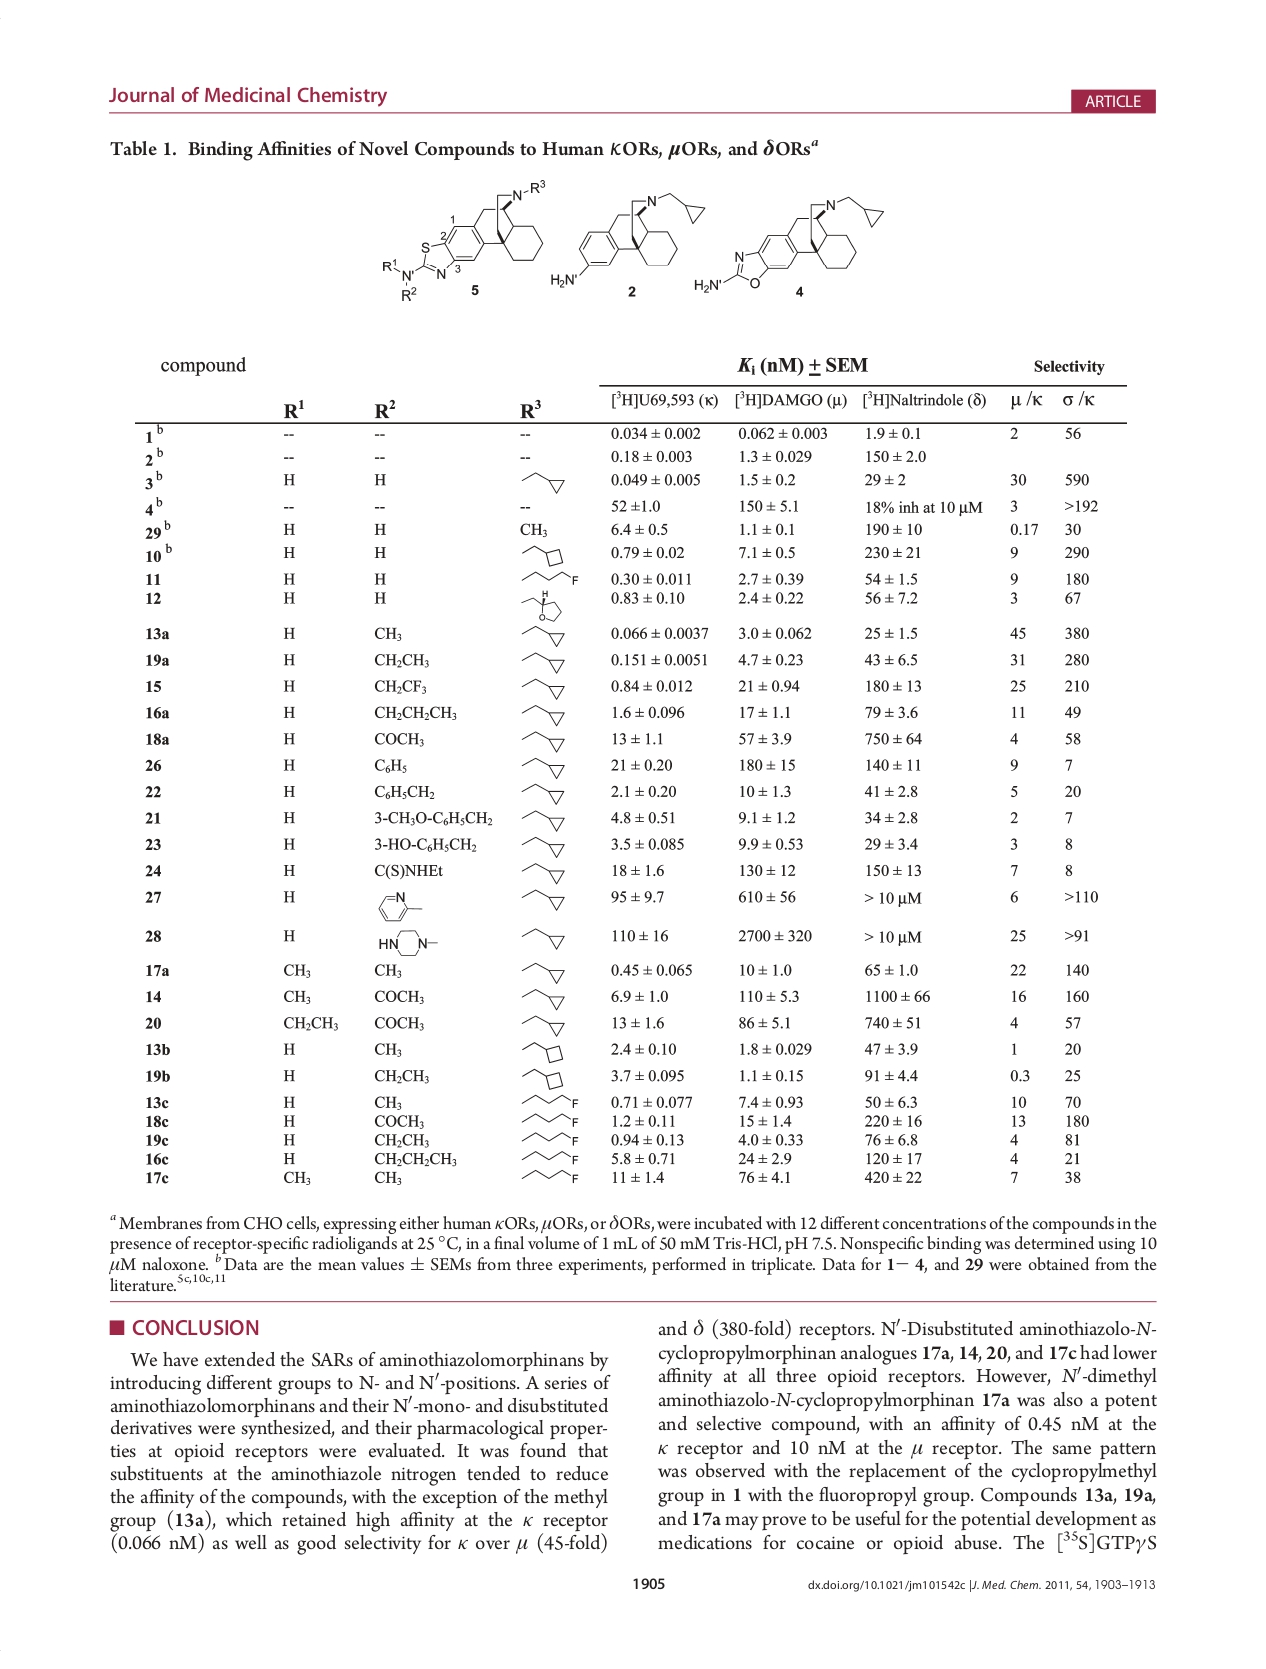exist_molecular: (376, 177, 549, 305), (693, 194, 887, 291), (549, 190, 705, 290), (376, 926, 440, 958), (374, 888, 426, 924), (519, 919, 567, 952), (519, 589, 564, 622), (517, 806, 565, 835), (516, 985, 568, 1012), (516, 648, 565, 676), (516, 781, 565, 809), (516, 567, 580, 588), (515, 755, 568, 781), (517, 676, 567, 702), (517, 1012, 567, 1039), (516, 622, 567, 648), (519, 469, 567, 496), (517, 541, 565, 568), (519, 727, 567, 754), (519, 959, 567, 985), (519, 1148, 581, 1168), (519, 1168, 581, 1188), (517, 834, 567, 859), (517, 860, 567, 886), (517, 702, 565, 727), (517, 1128, 581, 1146), (520, 1091, 578, 1110), (517, 888, 565, 912), (519, 1067, 565, 1091), (519, 1041, 564, 1065), (519, 1110, 578, 1126)
